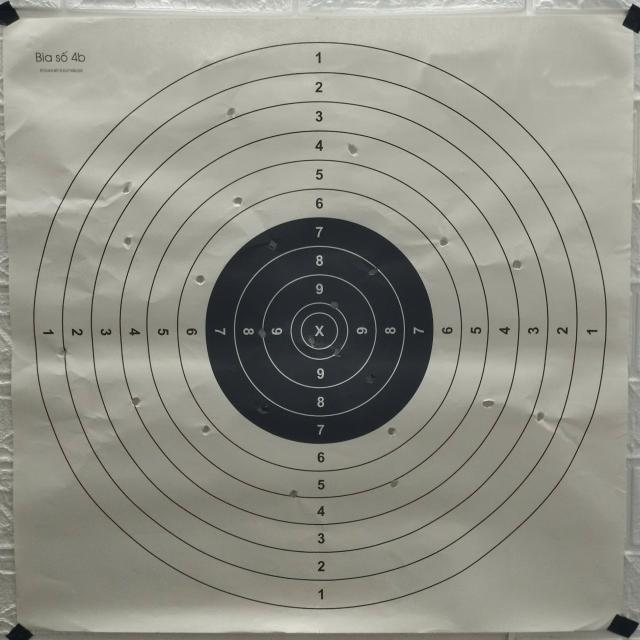bullet: (200, 424, 212, 436), (348, 144, 359, 156), (232, 196, 244, 207), (512, 260, 524, 271), (440, 236, 448, 248), (228, 108, 236, 120), (124, 236, 132, 248), (260, 404, 268, 415), (132, 396, 140, 407), (309, 336, 316, 347), (388, 427, 396, 436), (196, 276, 204, 284), (368, 376, 376, 384), (484, 400, 492, 408), (288, 488, 296, 496), (392, 480, 400, 488), (368, 268, 376, 276), (536, 412, 544, 420), (268, 240, 276, 248), (56, 348, 64, 356), (124, 184, 132, 191), (332, 348, 339, 356), (331, 301, 338, 309), (260, 328, 264, 339)
target: (8, 16, 620, 632)
